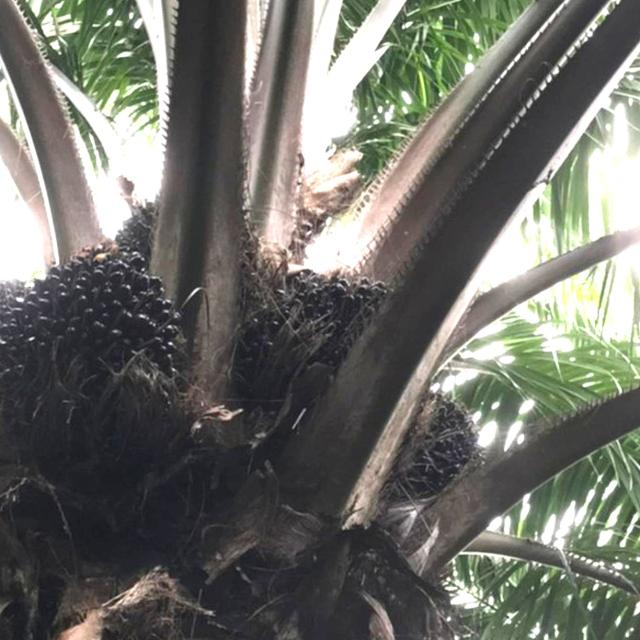almost: (229, 258, 412, 411)
